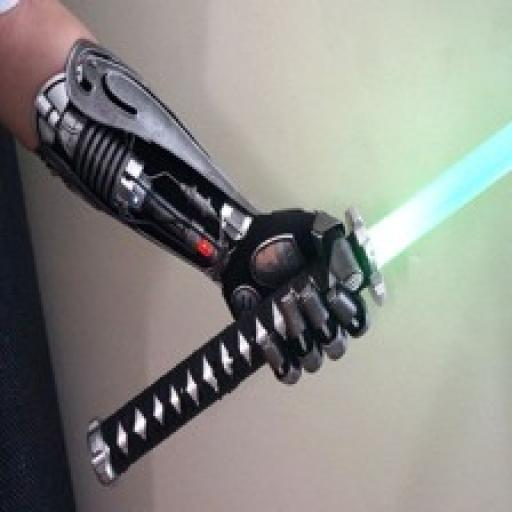lightsaber: (82, 121, 512, 489)
